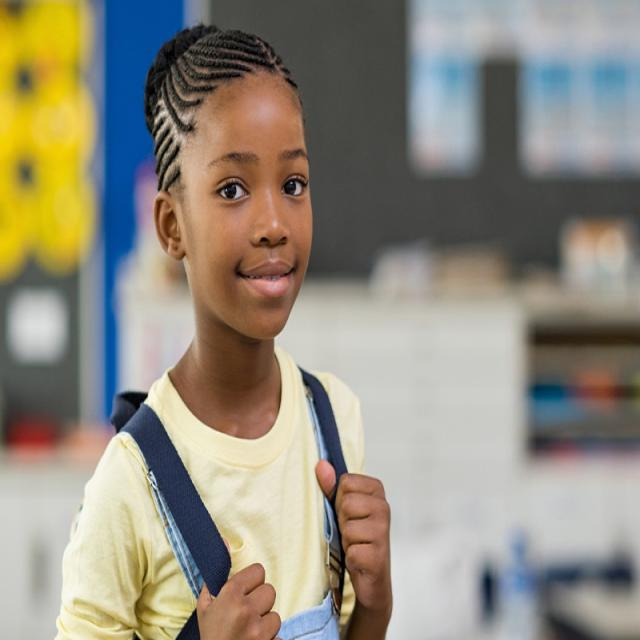child: (57, 19, 395, 640)
